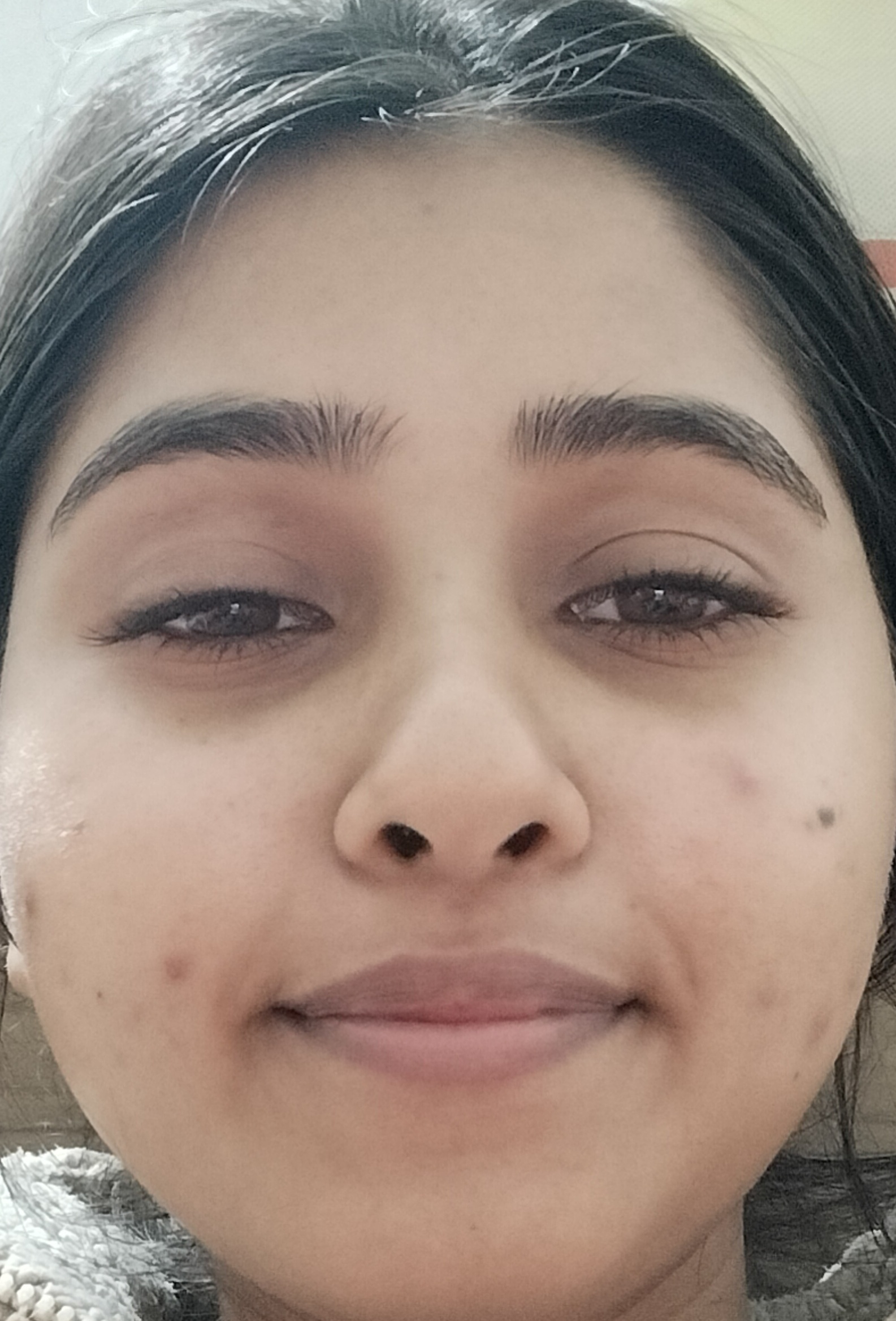papule: (717, 750, 778, 809), (161, 935, 216, 998)
